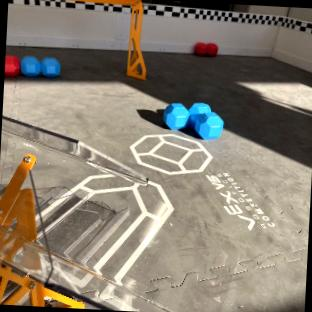V5_BLUE: (164, 101, 223, 139), (20, 55, 60, 76)
V5_RED: (4, 54, 19, 76), (194, 42, 206, 54), (204, 43, 216, 55)
